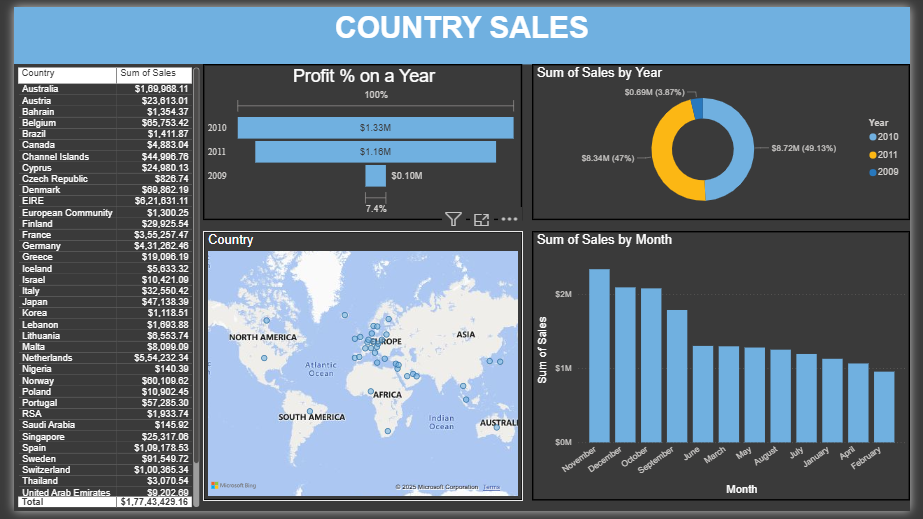

The dashboard page shown, as its layout file describes it:
{"tool":"powerbi","page":{"name":"Page 2","canvas":[1280,720],"ordinal":1},"visuals":[{"type":"textbox","box":[0,0,1280,82],"z":0},{"type":"funnel","title":"Profit % on a Year","fields":{"Category":["Append1.Year","Append1.Quarters"],"Y":["Sum(Append1.Price)"]},"box":[270,81.4,455.7,222.9],"z":2},{"type":"map","fields":{"Category":["Append1.Country"]},"box":[270,320,456.7,385],"z":3},{"type":"donutChart","fields":{"Category":["Append1.Year"],"Y":["Sum(Append1.Sales)"]},"box":[740,81.4,540,222.9],"z":4},{"type":"lineStackedColumnComboChart","fields":{"Category":["Append1.Month"],"Y":["Sum(Append1.Sales)"]},"box":[740,320,540,385],"z":5},{"type":"tableEx","fields":{"Values":["Append1.Country","Sum(Append1.Sales)"]},"box":[0,81.7,270,638.3],"z":6}]}

Visuals, with their boxes in screenshot pixels (x1, y1, x2, y2), scaled from the page's 1280x720 canvas onto the 923x519 screenshot:
textbox: locate(0, 0, 922, 59)
"Profit % on a Year" funnel: locate(195, 59, 523, 219)
map - Append1.Country: locate(195, 231, 524, 508)
donutChart - Append1.Year x Sum(Append1.Sales): locate(534, 59, 922, 219)
lineStackedColumnComboChart - Append1.Month x Sum(Append1.Sales): locate(534, 231, 922, 508)
tableEx - Append1.Country x Sum(Append1.Sales): locate(0, 59, 195, 518)
